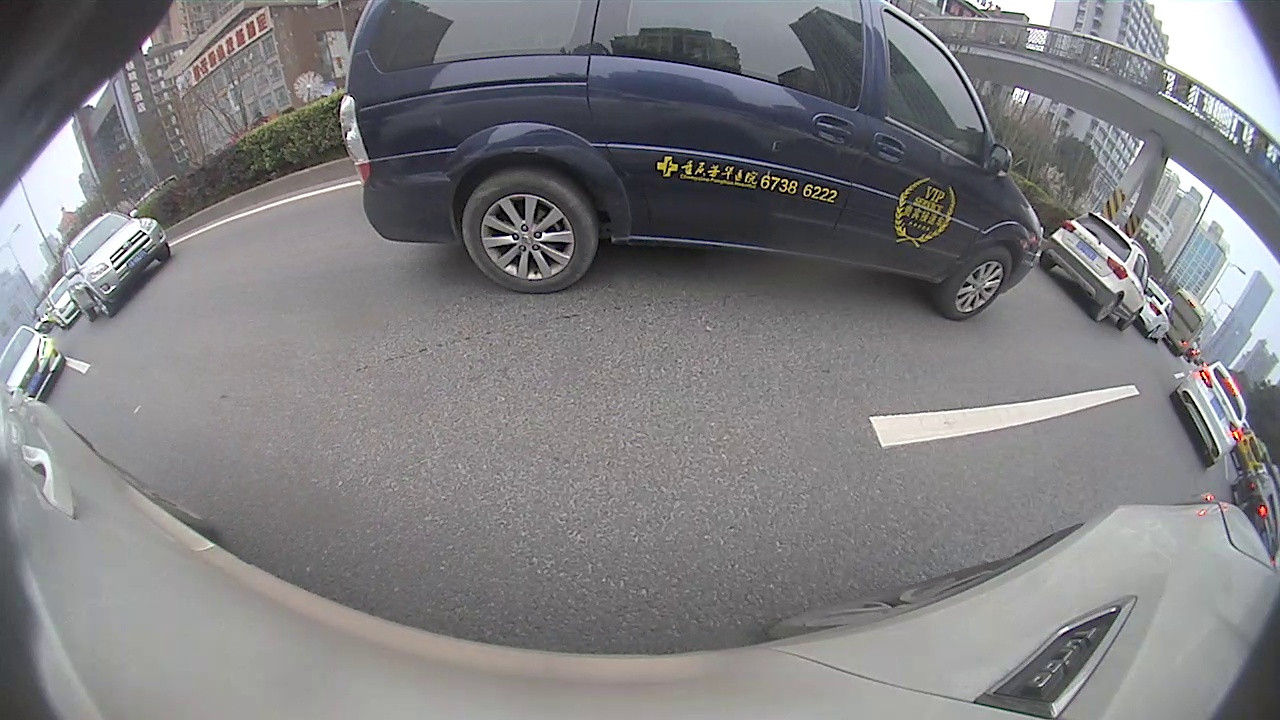bus: (563, 155, 586, 176)
car: (4, 262, 185, 436), (304, 148, 459, 237), (457, 172, 504, 200), (654, 154, 690, 185), (633, 160, 656, 179), (554, 165, 579, 180), (535, 165, 558, 181)
